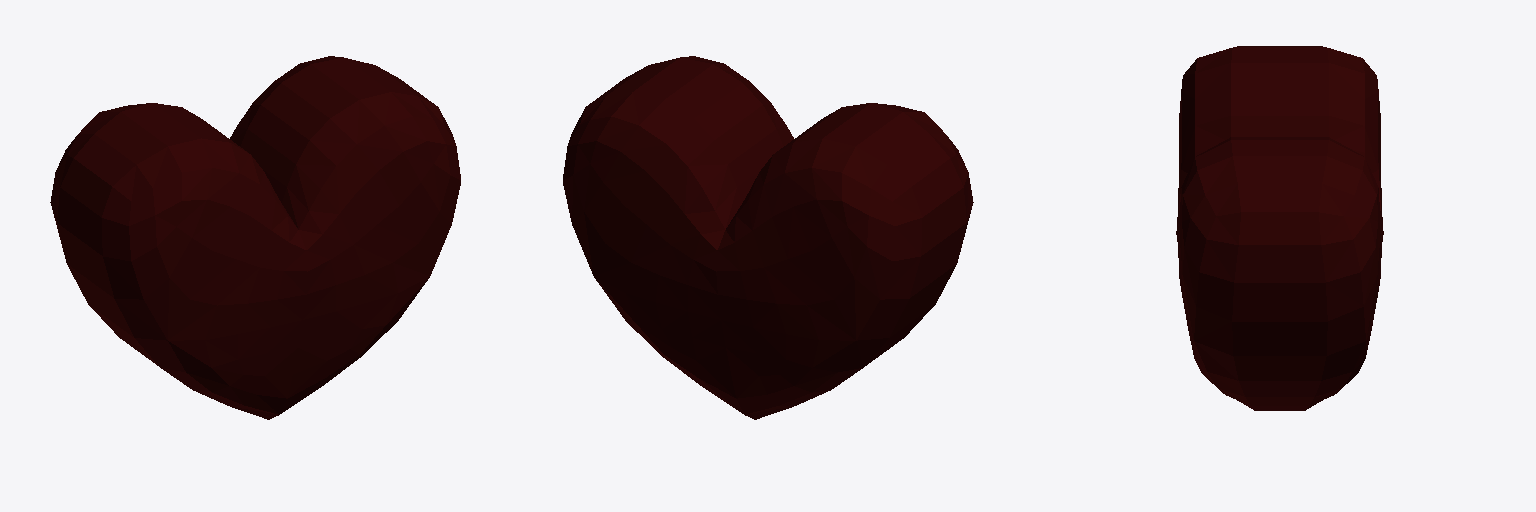
The model's file is Heart.obj.
3 renders of one model, left to right at view 1: azimuth 30°, elevation 25°; view 2: azimuth 150°, elevation 25°; view 3: azimuth 270°, elevation 25°, orthographic.
Visible parts, largest first — view 1: Heart_Cube.005; view 2: Heart_Cube.005; view 3: Heart_Cube.005.
Boxes of the visible parts, x1,y1,x2,y2 form: Heart_Cube.005: [50, 56, 460, 419]; Heart_Cube.005: [563, 56, 973, 419]; Heart_Cube.005: [1176, 46, 1383, 410].
Bounding box in the file's own units: 1.48 × 1.24 × 0.7542.